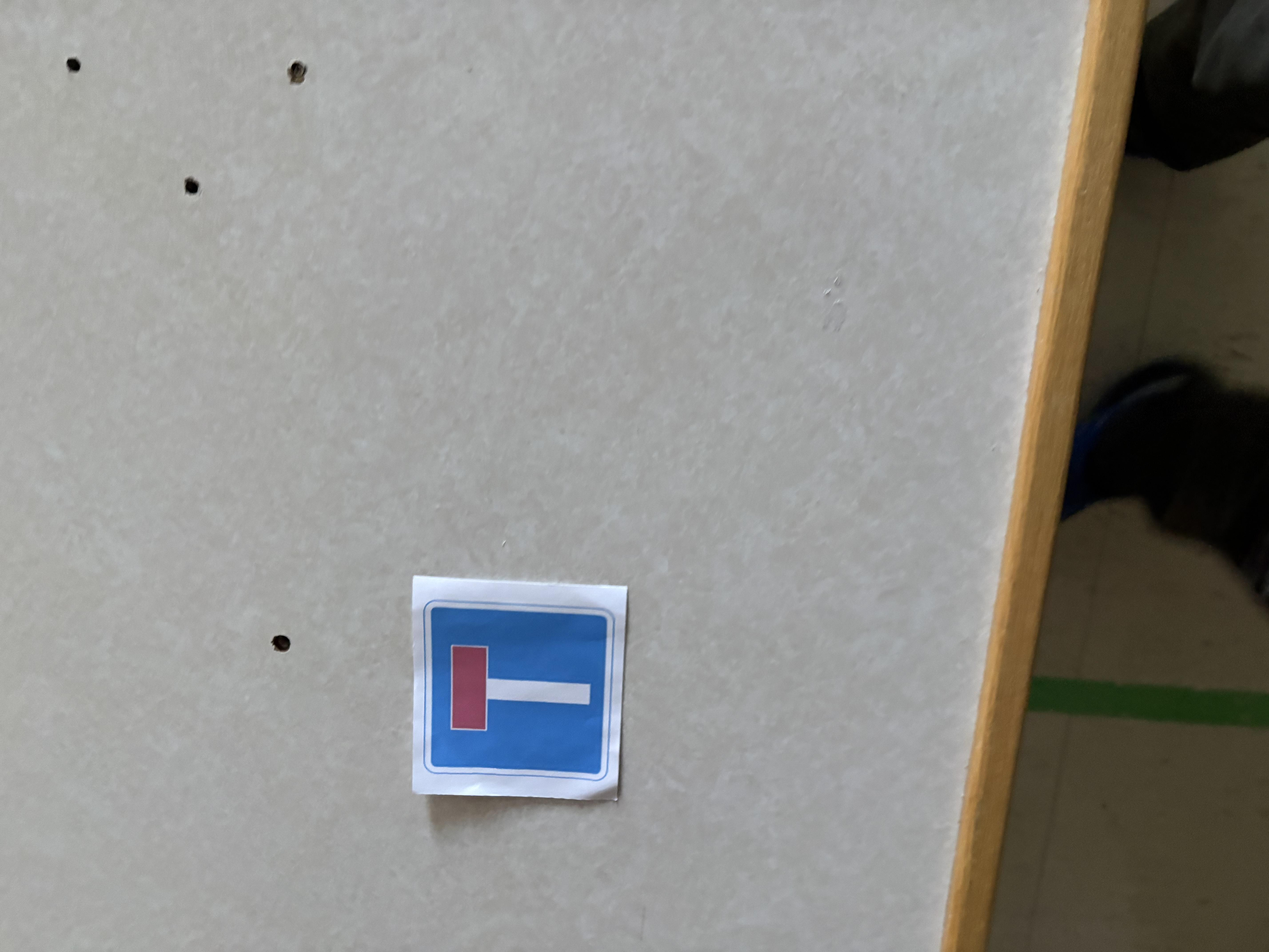Dead End: (413, 582, 624, 800)
